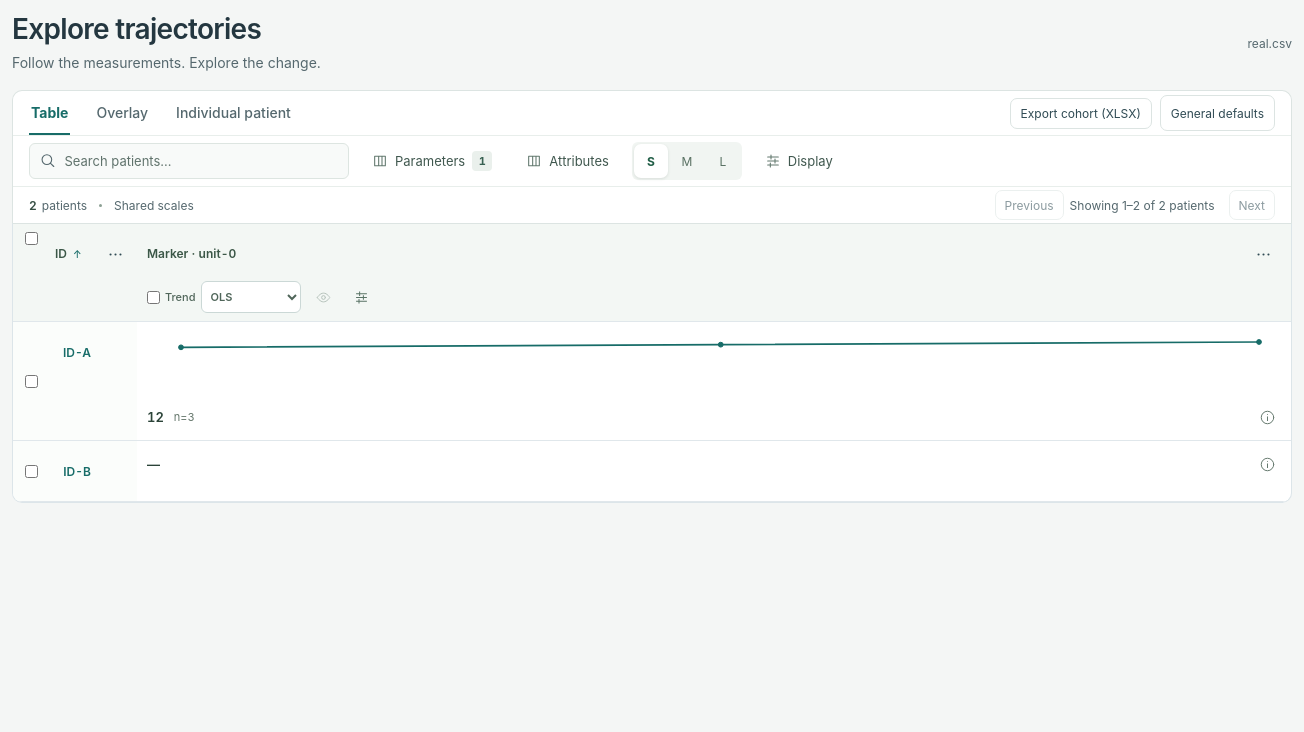
Scenario: real-data trajectories workspace › shows one line for a cell without measurements, also with trends on
Click the button "Display": (799, 161) [754,142,844,180]
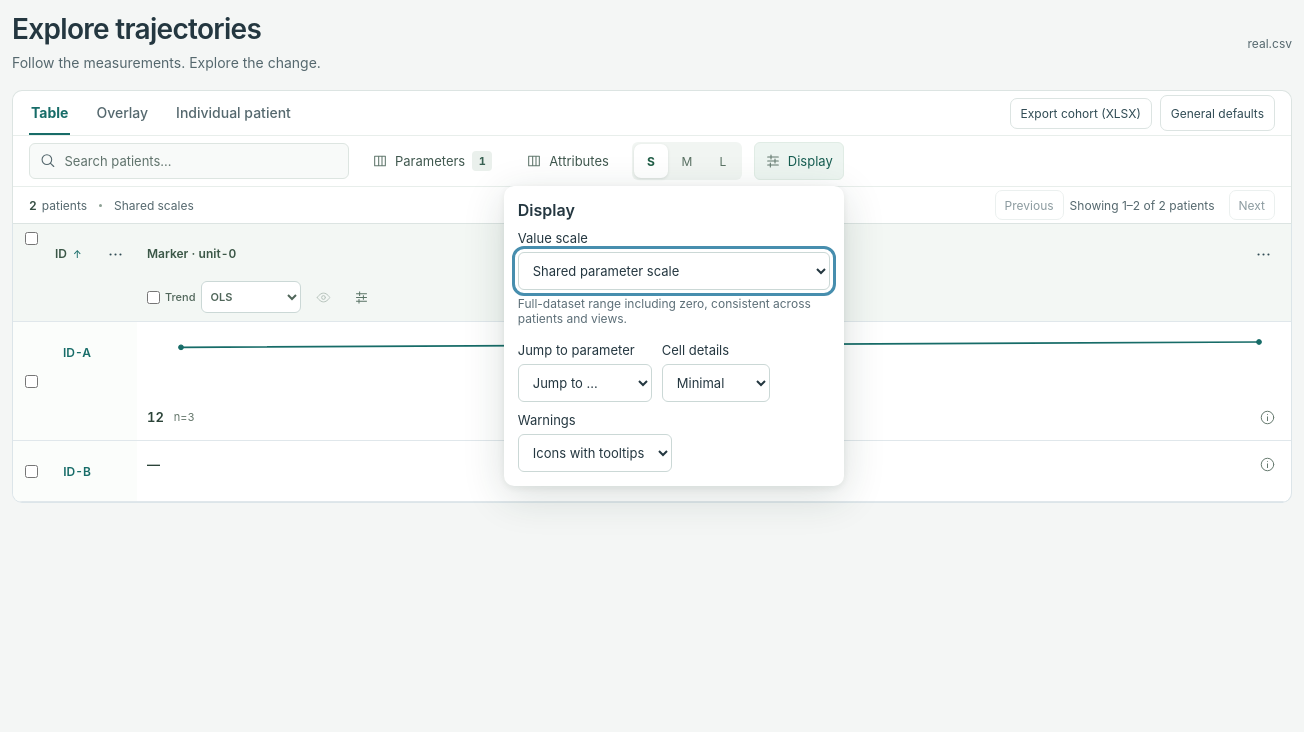
Select "Full details" in the dropdown labelled "Cell details": (716, 383) [662,364,770,402]
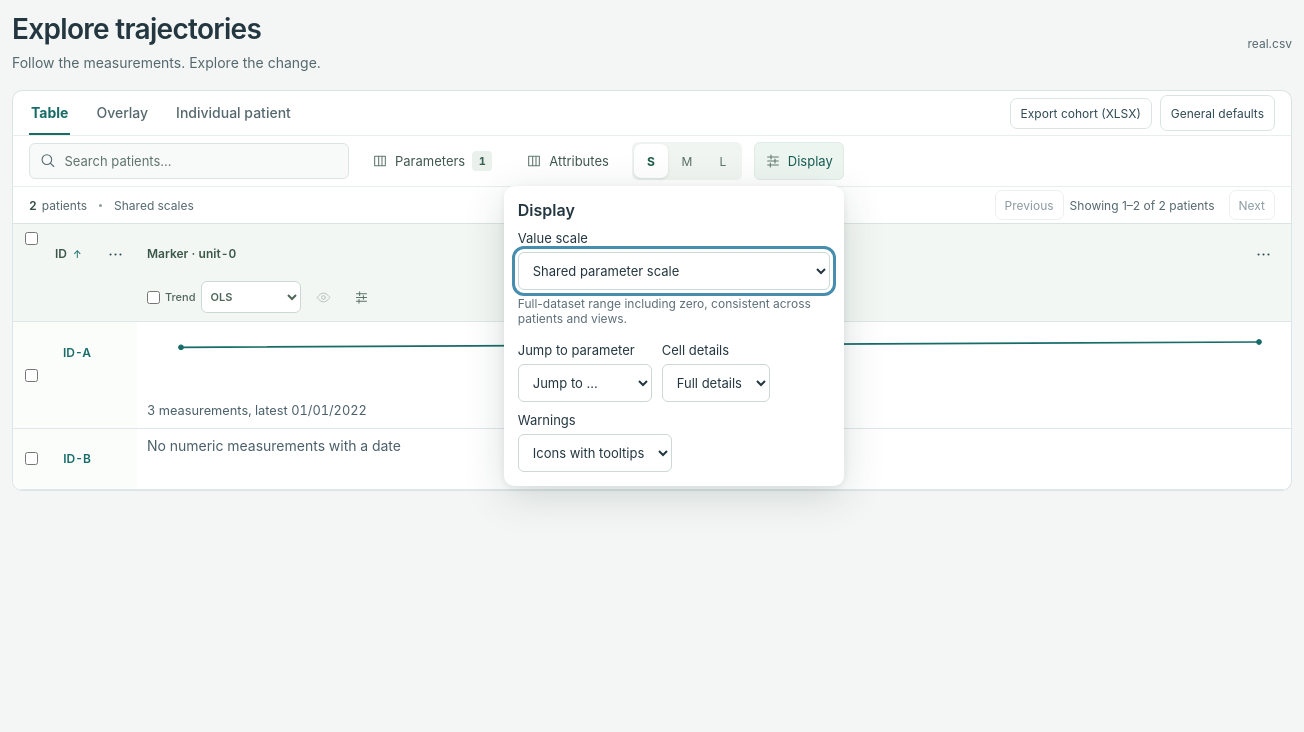
Click the button "Display": (799, 161) [754,142,844,180]
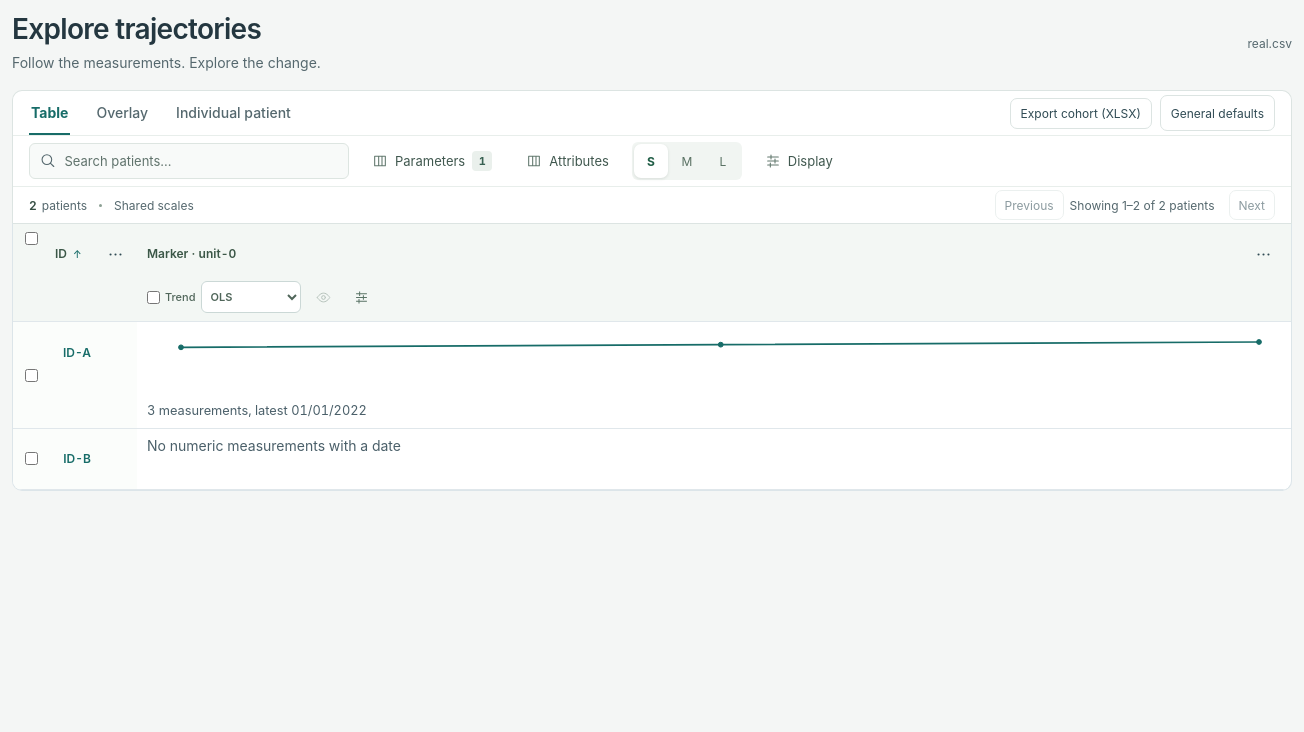
Click the checkbox named "Analyse trend: Marker · unit-0": (154, 297) [147,291,160,304]
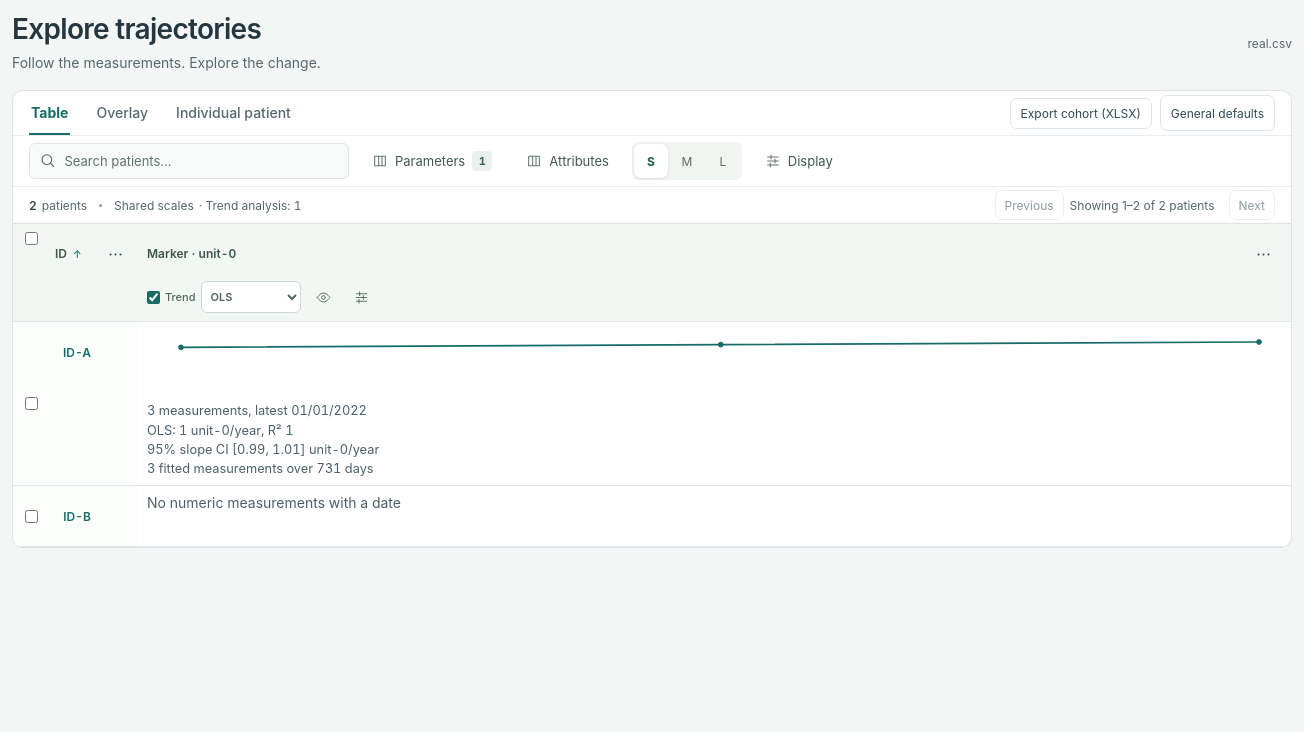
Expected: the row named "Open patient ID-B" shows "No numeric measurements with a date", [147,494,401,512]
Expected: the row named "Open patient ID-A" shows "3 fitted measurements", [147,461,374,476]
